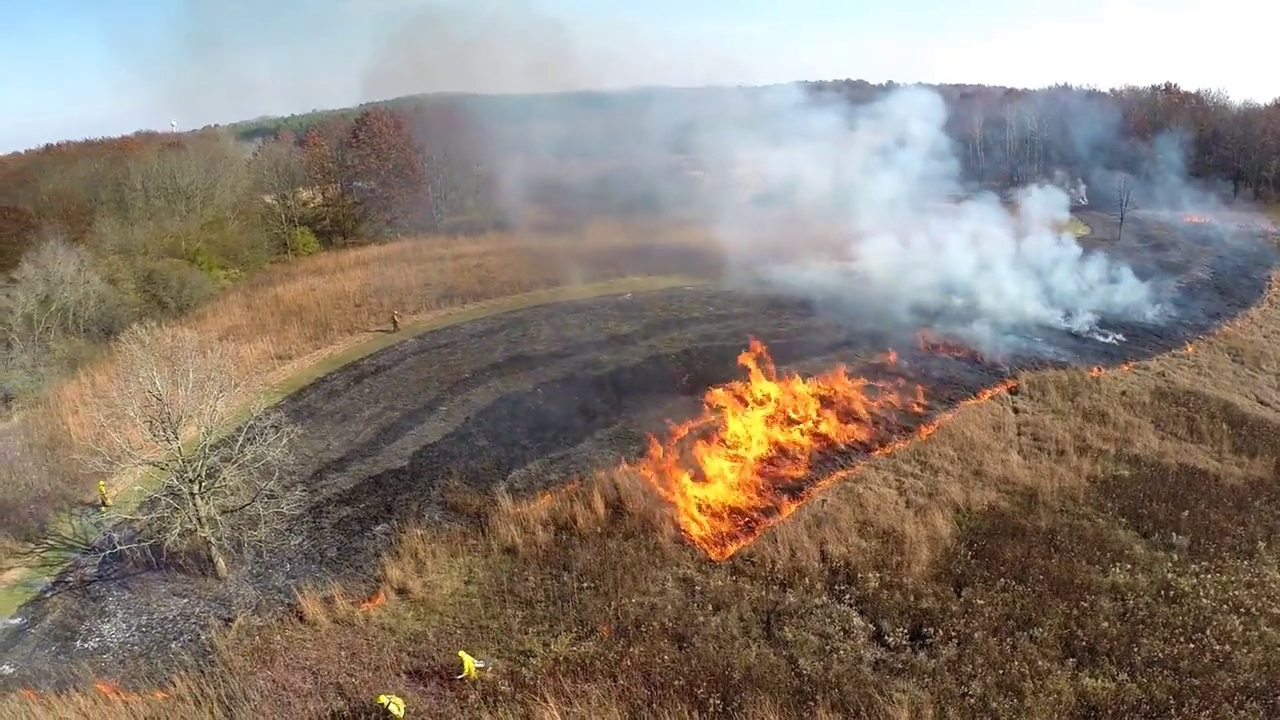forest_fire: (629, 338, 1017, 560)
